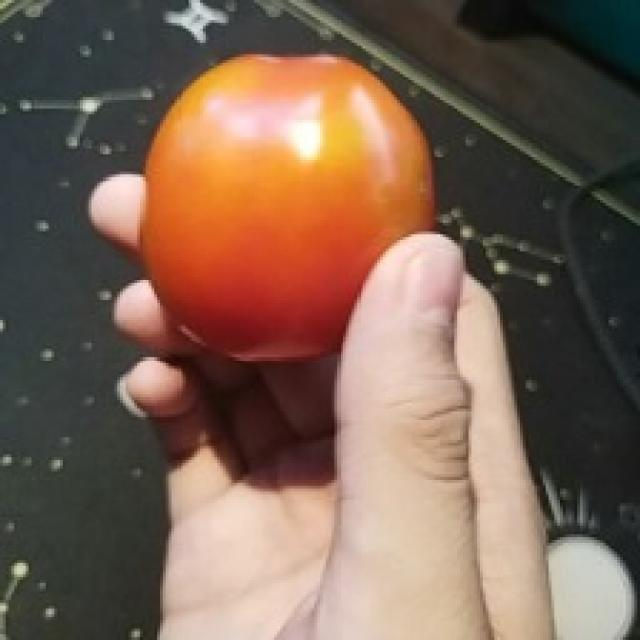Fresh Tomato: (110, 21, 445, 400)
